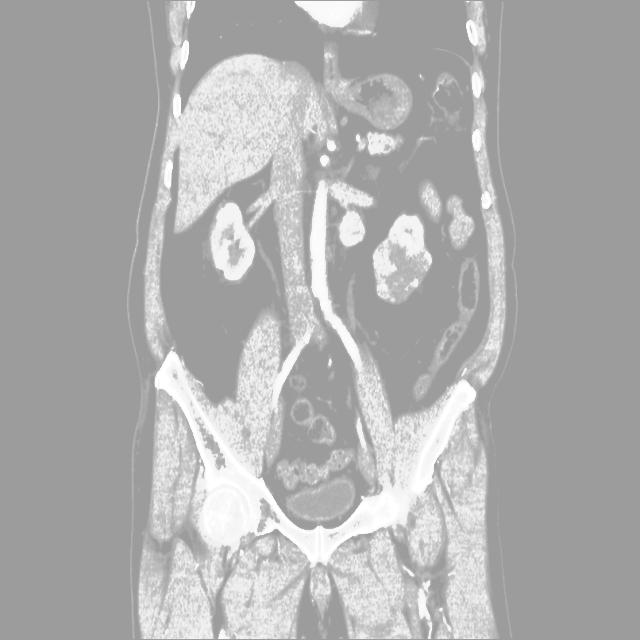TUMOR: (177, 171, 469, 316)
